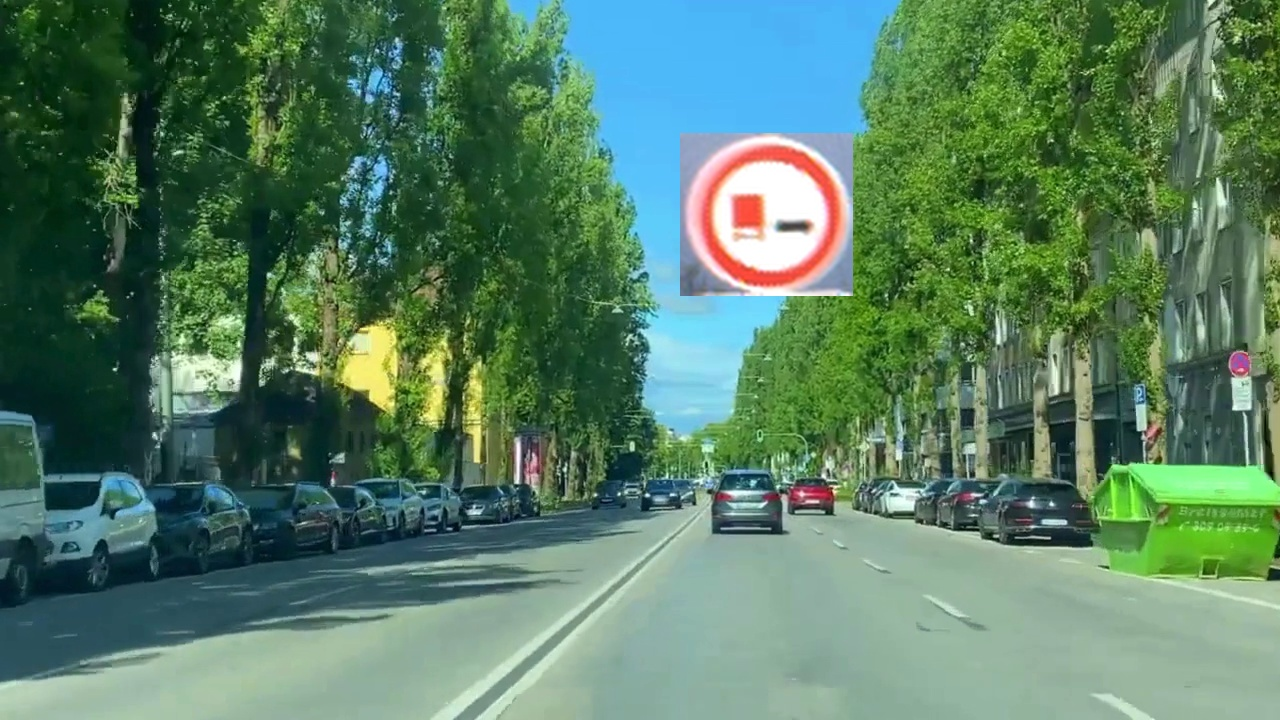No pass >3.5t: (680, 133, 853, 296)
